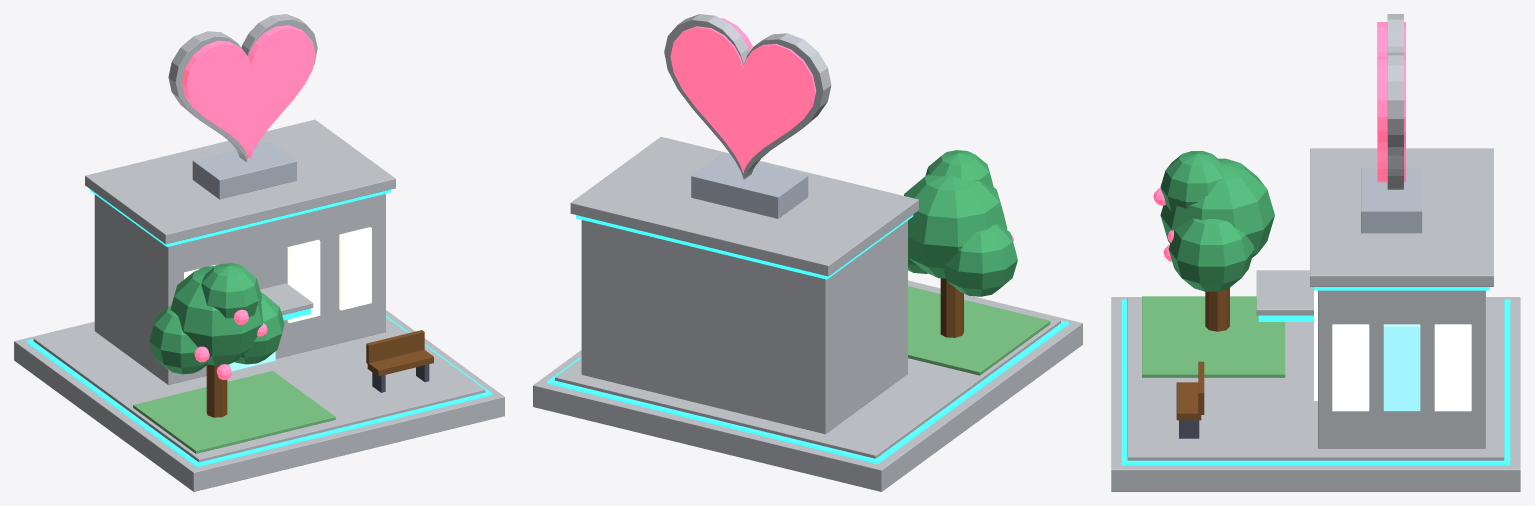
Rendered from foundation.glb.
3 views of the same model, side by side, from view 1: azimuth 30°, elevation 25°; view 2: azimuth 150°, elevation 25°; view 3: azimuth 270°, elevation 25° (orthographic). The views are drawn at different scales.
Parts seen in each view (by area): view 1: Foundation; view 2: Foundation; view 3: Foundation.
Part boxes in pixels (x1,y1,x2,y2): Foundation: (14, 14, 504, 491); Foundation: (533, 14, 1082, 491); Foundation: (1111, 14, 1520, 491).
Size of the model in its own units: 2 by 2.04 by 2.
